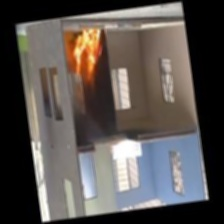fire: (62, 24, 111, 84)
